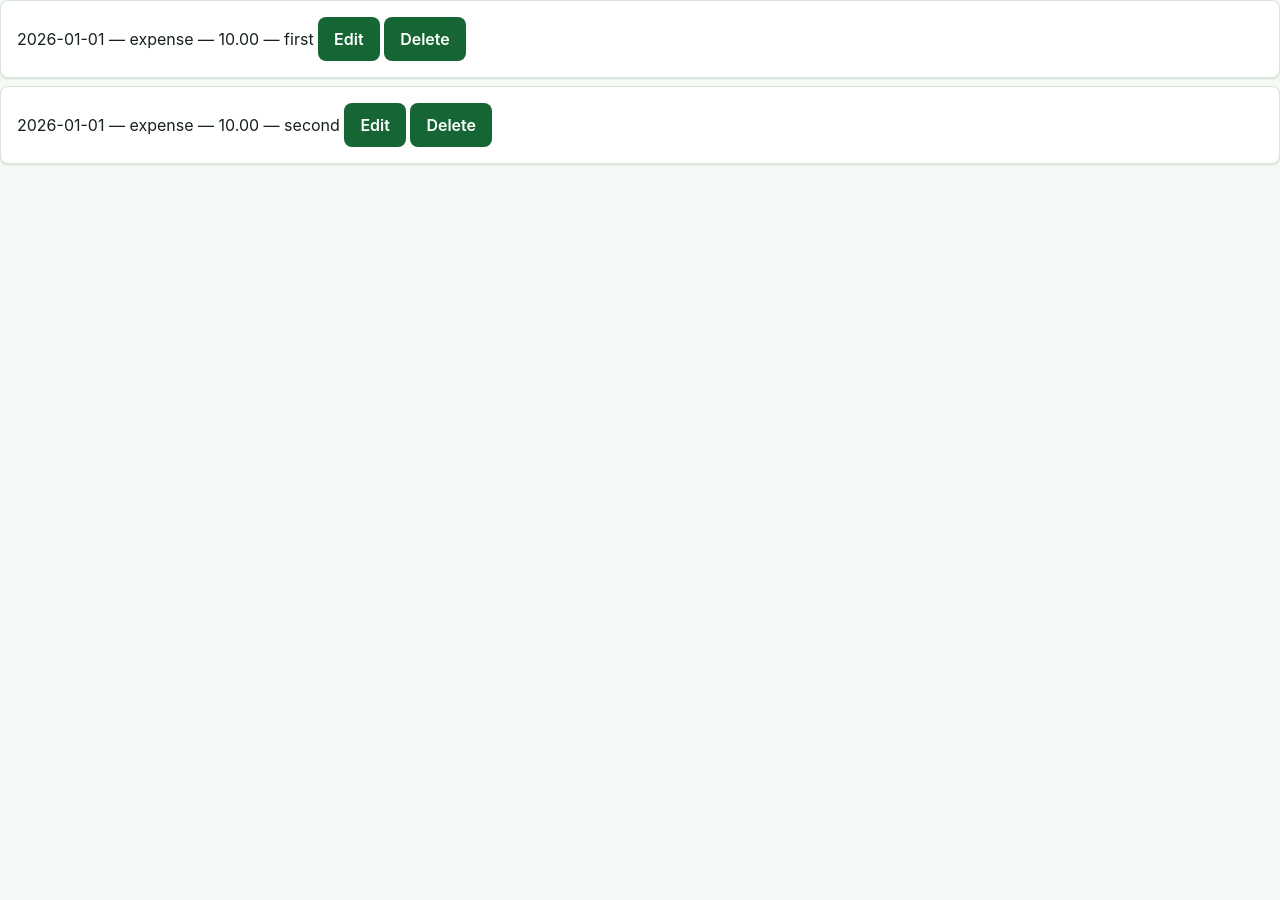
it: EventHistoryList › Edit swaps only that row into an EventForm pre-filled from the event, leaving siblings untouched
Click the button "Edit" next to "— first": (349, 39) x1=318 y1=17 x2=380 y2=61
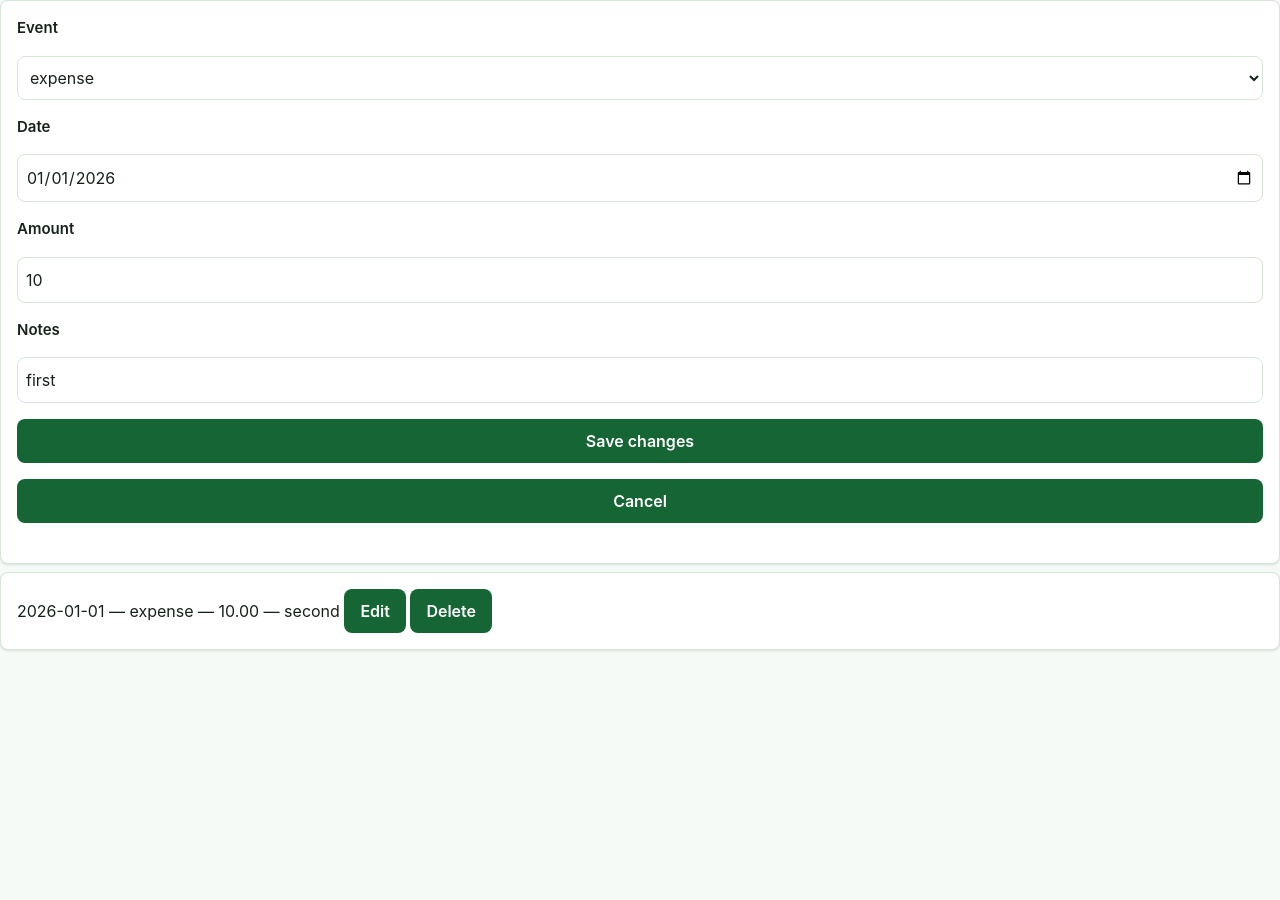
Check: the list item "2026-01-01 — expense — 10.00 — second Edit Delete" is shown, box x1=0 y1=572 x2=1279 y2=650
Check: the button "Save changes" is shown, box x1=17 y1=419 x2=1263 y2=463
